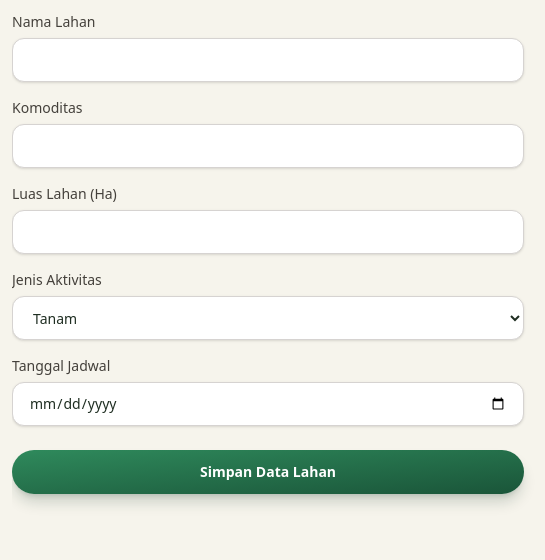
FormEntryClient › menampilkan pesan error dari server bila penyimpanan gagal
The image size is (545, 560).
Type "Sawah Uji" into the field labelled "Nama Lahan" at [268, 60], box top-left (12, 38), bottom-right (524, 82)
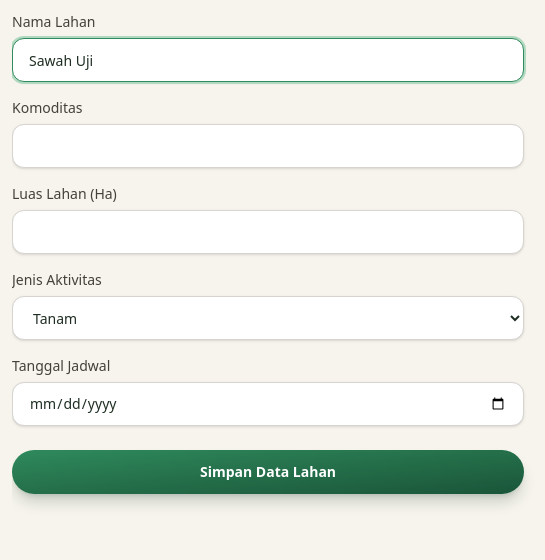
Type "Padi" into the field labelled "Komoditas" at [268, 146], box top-left (12, 124), bottom-right (524, 168)
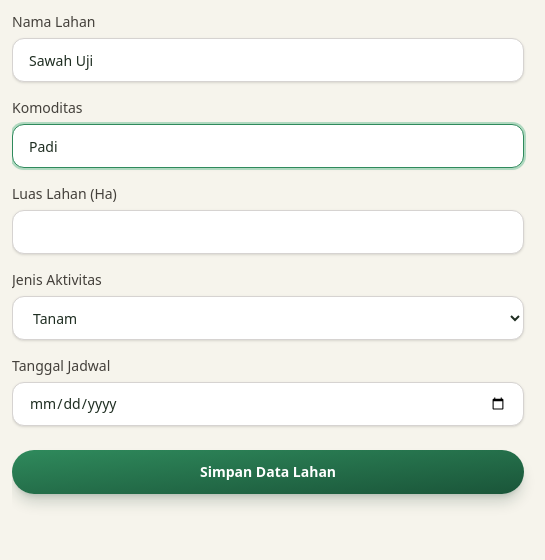
Type "2.5" into the number field labelled "Luas Lahan (Ha)" at [268, 232], box top-left (12, 210), bottom-right (524, 254)
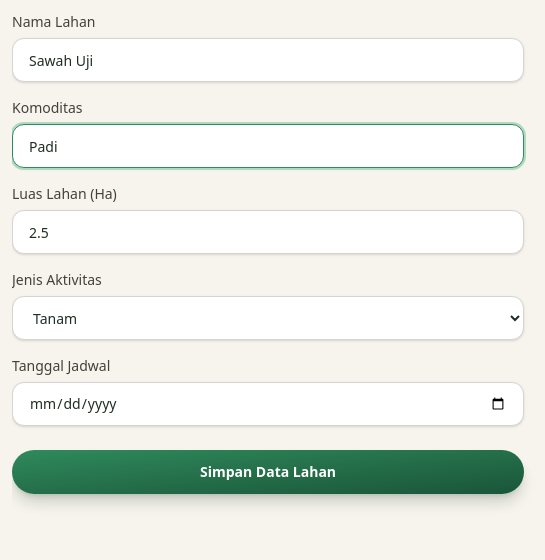
Select "Panen" in the dropdown labelled "Jenis Aktivitas" at [268, 318], box top-left (12, 296), bottom-right (524, 340)
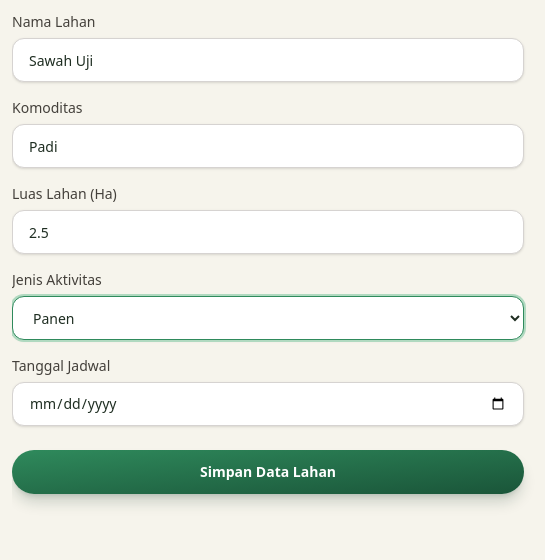
Type "2026-09-25" into the date field labelled "Tanggal Jadwal" at [268, 404], box top-left (12, 382), bottom-right (524, 426)
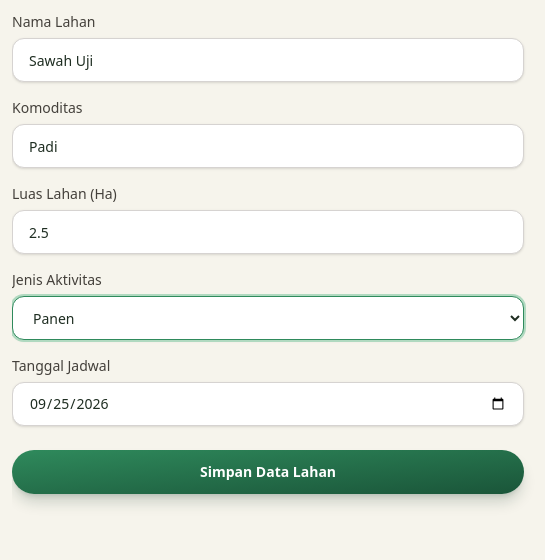
Click the button "Simpan Data Lahan" at [268, 472], box top-left (12, 450), bottom-right (524, 494)
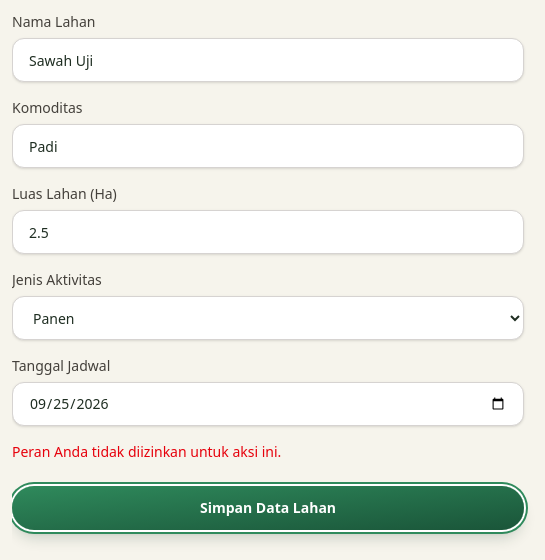
Result: the message reads "Peran Anda tidak diizinkan untuk aksi ini." at top-left (12, 442), bottom-right (281, 461)
